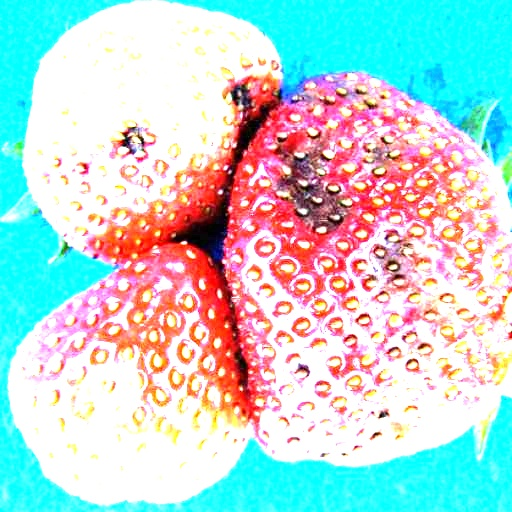Anthracnose Fruit Rot: (257, 71, 485, 466), (59, 349, 153, 431), (103, 111, 164, 171)
